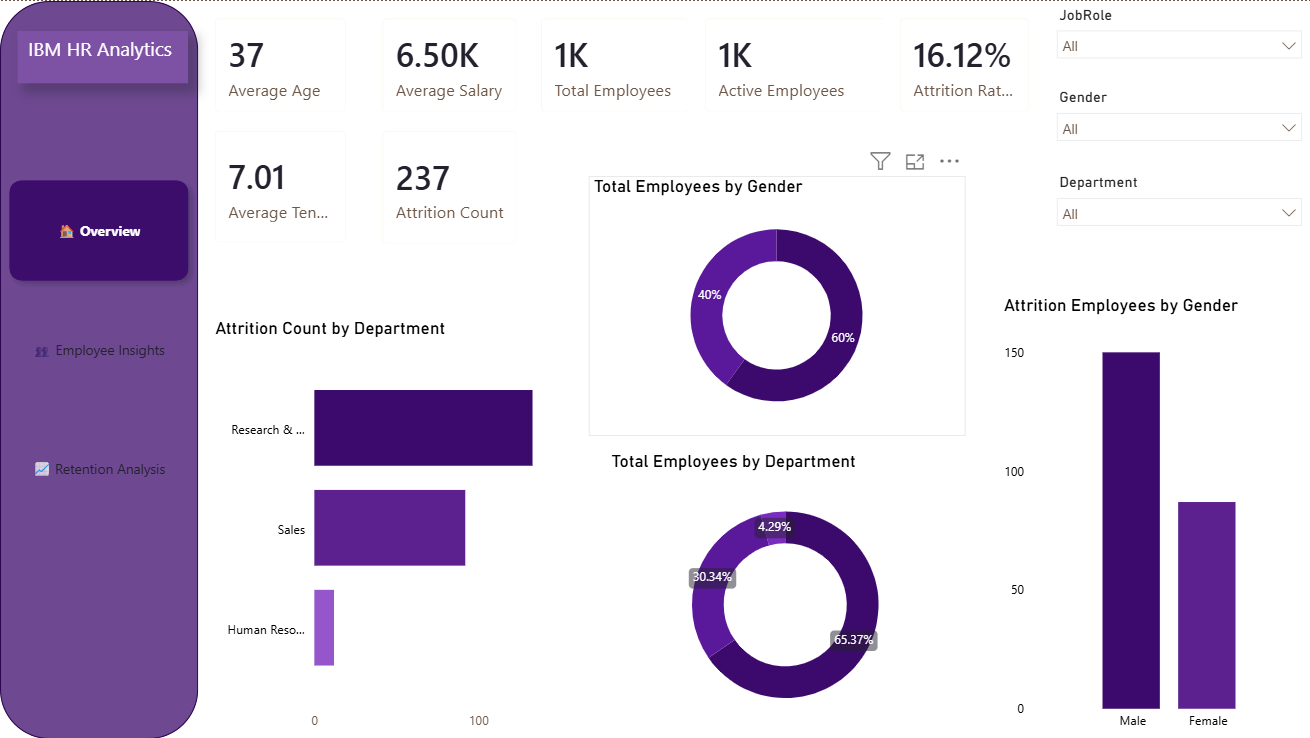

What the dashboard file says about the page in this screenshot:
{"tool":"powerbi","page":{"name":"🏠 Overview","canvas":[1280,720],"ordinal":0},"visuals":[{"type":"shape","box":[0,0,193.3,720],"z":0,"group":"g1"},{"type":"cardVisual","fields":{"Data":["IBM HR.Total Employees"]},"box":[511.1,0,178.5,126],"z":0},{"type":"cardVisual","fields":{"Data":["IBM HR.Attrition Count"]},"box":[355.8,110.1,165.1,144.3],"z":1000},{"type":"cardVisual","fields":{"Data":["IBM HR.Average Salary"]},"box":[355.8,0,165.1,126],"z":2000},{"type":"cardVisual","fields":{"Data":["IBM HR.Average Age"]},"box":[193.2,0,162.6,126],"z":3000},{"type":"cardVisual","fields":{"Data":["IBM HR.Average Tenure"]},"box":[193.2,110.1,162.6,143.1],"z":4000},{"type":"cardVisual","fields":{"Data":["IBM HR.Active Employees"]},"box":[671.3,0,212.8,126],"z":5000},{"type":"cardVisual","fields":{"Data":["IBM HR.Attrition Rate %"]},"box":[860.9,0,160.2,126],"z":6000},{"type":"donutChart","fields":{"Category":["IBM HR.Gender"],"Y":["IBM HR.Total Employees"]},"box":[574.7,171.2,366.8,253.1],"z":7000},{"type":"donutChart","fields":{"Y":["IBM HR.Total Employees"],"Category":["IBM HR.Department"]},"box":[591.9,439,349.7,281.3],"z":8000},{"type":"clusteredBarChart","fields":{"Y":["IBM HR.Attrition Count"],"Category":["IBM HR.Department"]},"box":[205.4,308.2,357.1,412.1],"z":9000},{"type":"clusteredColumnChart","fields":{"Category":["IBM HR.Gender"],"Y":["IBM HR.Attrition Employees"]},"box":[974.6,286.1,305.7,434.1],"z":10000},{"type":"slicer","fields":{"Values":["IBM HR.Department"]},"box":[1021.1,163.9,259.2,89.3],"z":11000},{"type":"slicer","fields":{"Values":["IBM HR.JobRole"]},"box":[1021.1,0,259.2,85.6],"z":12000},{"type":"slicer","fields":{"Values":["IBM HR.Gender"]},"box":[1021.1,80.7,259.2,90.5],"z":13000},{"type":"group","id":"g1","title":"Group 1","box":[0,0,193.3,720],"z":14000},{"type":"textbox","box":[17.1,29.3,166.3,51.4],"z":15000},{"type":"pageNavigator","box":[0,166.3,193.2,351],"z":15001,"group":"g1"}]}

Visuals, with their boxes on the page's 1280x720 design canvas (x1, y1, x2, y2). These are canvas units, not pixel positions in the 1310x738 screenshot, which may show the page scaled, cropped or inside an application window:
shape: (x1=0, y1=0, x2=193, y2=720)
cardVisual - IBM HR.Total Employees: (x1=511, y1=0, x2=690, y2=126)
cardVisual - IBM HR.Attrition Count: (x1=356, y1=110, x2=521, y2=254)
cardVisual - IBM HR.Average Salary: (x1=356, y1=0, x2=521, y2=126)
cardVisual - IBM HR.Average Age: (x1=193, y1=0, x2=356, y2=126)
cardVisual - IBM HR.Average Tenure: (x1=193, y1=110, x2=356, y2=253)
cardVisual - IBM HR.Active Employees: (x1=671, y1=0, x2=884, y2=126)
cardVisual - IBM HR.Attrition Rate %: (x1=861, y1=0, x2=1021, y2=126)
donutChart - IBM HR.Gender x IBM HR.Total Employees: (x1=575, y1=171, x2=942, y2=424)
donutChart - IBM HR.Total Employees x IBM HR.Department: (x1=592, y1=439, x2=942, y2=720)
clusteredBarChart - IBM HR.Attrition Count x IBM HR.Department: (x1=205, y1=308, x2=562, y2=720)
clusteredColumnChart - IBM HR.Gender x IBM HR.Attrition Employees: (x1=975, y1=286, x2=1280, y2=720)
slicer - IBM HR.Department: (x1=1021, y1=164, x2=1280, y2=253)
slicer - IBM HR.JobRole: (x1=1021, y1=0, x2=1280, y2=86)
slicer - IBM HR.Gender: (x1=1021, y1=81, x2=1280, y2=171)
"Group 1" group: (x1=0, y1=0, x2=193, y2=720)
textbox: (x1=17, y1=29, x2=183, y2=81)
pageNavigator: (x1=0, y1=166, x2=193, y2=517)
